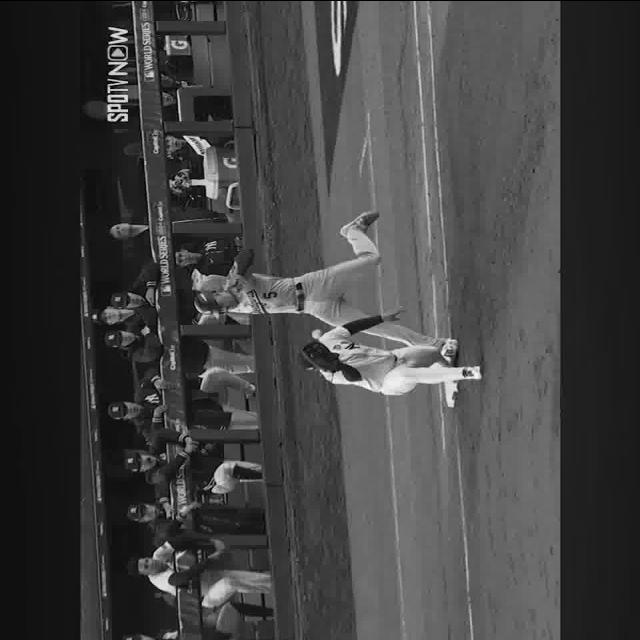base: (443, 379, 460, 408)
baseball: (310, 329, 324, 337)
baseball_glove: (302, 340, 338, 370)
shoe: (340, 209, 380, 236), (440, 338, 458, 365), (462, 365, 483, 378)
